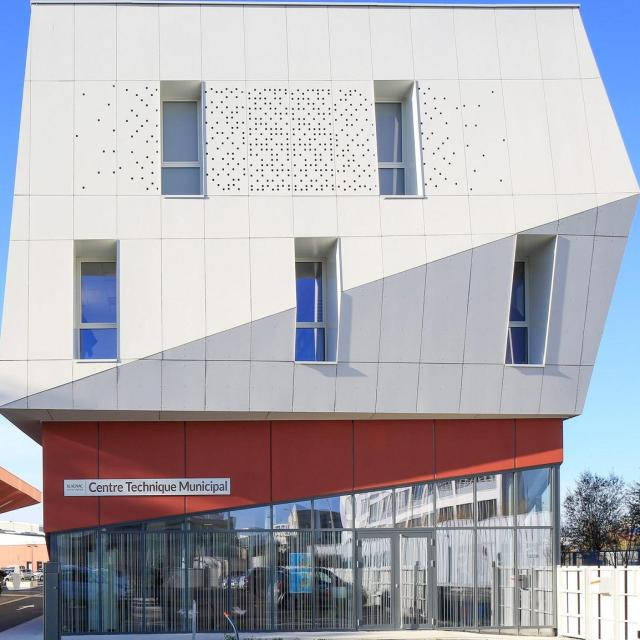door: (357, 527, 438, 629)
plant: (565, 473, 639, 568)
windows: (55, 465, 557, 636), (75, 256, 116, 363), (162, 100, 203, 198), (296, 257, 326, 361), (507, 258, 531, 364), (378, 100, 403, 196)
